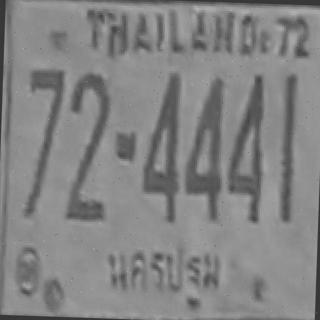N01: (278, 74, 298, 183)
N02: (63, 120, 108, 220)
N07: (26, 67, 64, 156)
P28: (99, 232, 227, 317)
